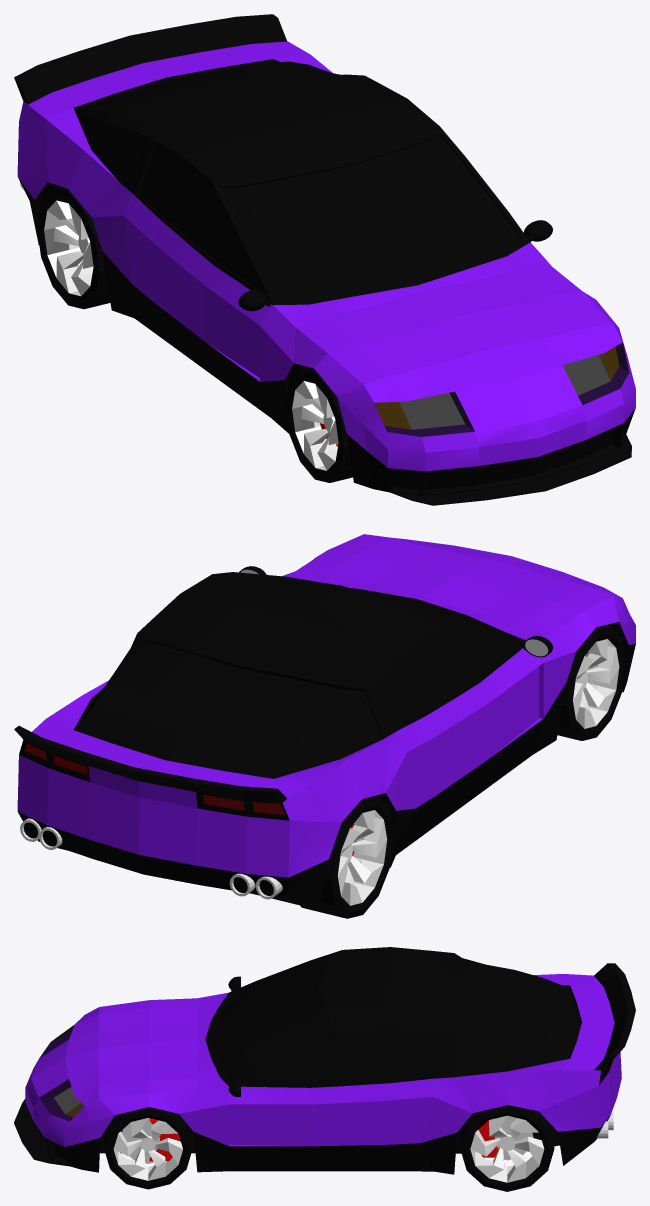
Rendered from car.glb.
3 renders of one model, top to bottom at view 1: azimuth 30°, elevation 25°; view 2: azimuth 150°, elevation 25°; view 3: azimuth 270°, elevation 25°, orthographic. The views are drawn at different scales.
Parts seen in each view (by area): view 1: Muscle car 2.Body, 5.Wheel.Bk.R, 5.Wheel.Ft.R; view 2: Muscle car 2.Body, 5.Wheel.Bk.R, 5.Wheel.Ft.R; view 3: Muscle car 2.Body, 5.Wheel.Bk.L, 5.Wheel.Ft.L.
Boxes of the visible parts, x1,y1,x2,y2 form: Muscle car 2.Body: (14,14,635,505); 5.Wheel.Bk.R: (36,186,110,309); 5.Wheel.Ft.R: (285,367,352,482); Muscle car 2.Body: (14,534,635,909); 5.Wheel.Bk.R: (300,796,394,918); 5.Wheel.Ft.R: (557,625,625,740); Muscle car 2.Body: (14,947,635,1174); 5.Wheel.Bk.L: (460,1105,554,1191); 5.Wheel.Ft.L: (104,1107,192,1189).
Bounding box in the file's own units: 135 × 85.03 × 313.
